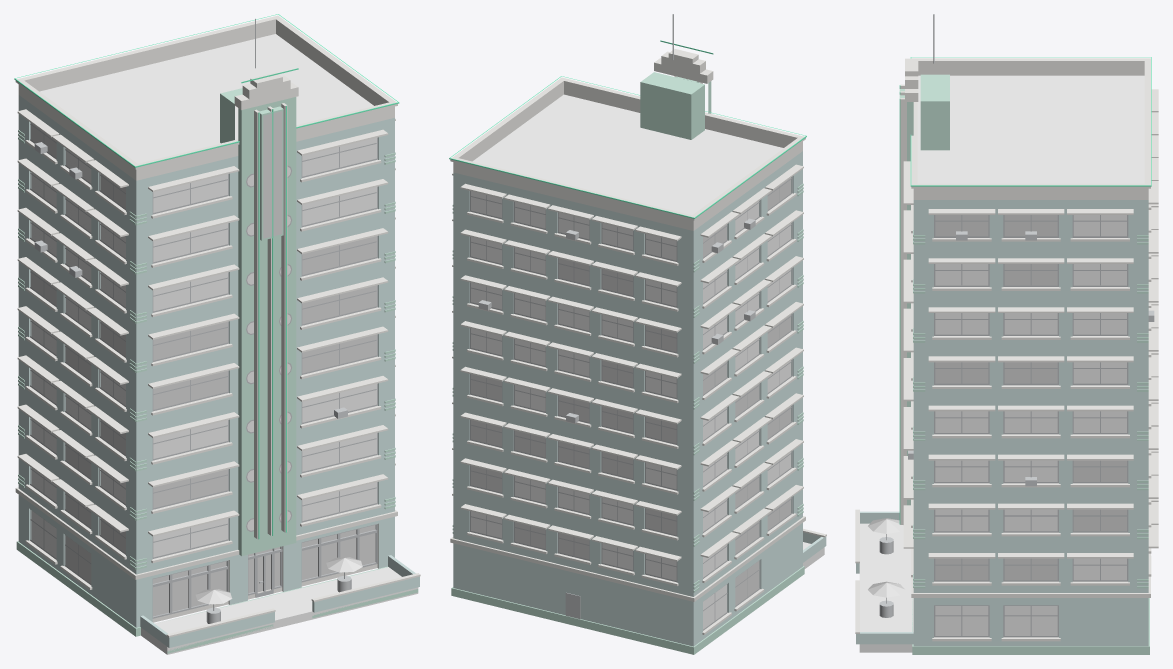
File: deco_w66f8.glb
3 views of the same model, side by side, from view 1: azimuth 30°, elevation 25°; view 2: azimuth 150°, elevation 25°; view 3: azimuth 270°, elevation 25° (orthographic). The views are drawn at different scales.
Parts seen in each view (by area): view 1: deco_w66f8_Walls, deco_w66f8_Trim, deco_w66f8_Glass, deco_w66f8_Accent, deco_w66f8_WindowsLit, deco_w66f8_Roof, deco_w66f8_Frames, deco_w66f8_Walls2, deco_w66f8_Neon, deco_w66f8_Brand, deco_w66f8_Details, deco_w66f8_Awning; view 2: deco_w66f8_Walls, deco_w66f8_Trim, deco_w66f8_Glass, deco_w66f8_Roof, deco_w66f8_WindowsLit, deco_w66f8_Frames, deco_w66f8_Accent, deco_w66f8_Details, deco_w66f8_Neon; view 3: deco_w66f8_Walls, deco_w66f8_Trim, deco_w66f8_Roof, deco_w66f8_Glass, deco_w66f8_WindowsLit, deco_w66f8_Frames, deco_w66f8_Accent, deco_w66f8_Walls2, deco_w66f8_Neon, deco_w66f8_Details, deco_w66f8_Awning.
Boxes of the visible parts, x1=… form: deco_w66f8_Walls: x1=18, y1=95, x2=419, y2=647; deco_w66f8_Trim: x1=15, y1=15, x2=420, y2=637; deco_w66f8_Glass: x1=31, y1=137, x2=376, y2=558; deco_w66f8_Accent: x1=16, y1=88, x2=418, y2=653; deco_w66f8_WindowsLit: x1=31, y1=123, x2=376, y2=616; deco_w66f8_Roof: x1=39, y1=34, x2=373, y2=163; deco_w66f8_Frames: x1=30, y1=122, x2=377, y2=618; deco_w66f8_Walls2: x1=141, y1=567, x2=418, y2=654; deco_w66f8_Neon: x1=14, y1=14, x2=399, y2=539; deco_w66f8_Brand: x1=263, y1=111, x2=282, y2=238; deco_w66f8_Details: x1=34, y1=18, x2=351, y2=623; deco_w66f8_Awning: x1=195, y1=557, x2=362, y2=604; deco_w66f8_Walls: x1=453, y1=151, x2=826, y2=646; deco_w66f8_Trim: x1=450, y1=49, x2=826, y2=634; deco_w66f8_Glass: x1=471, y1=191, x2=791, y2=629; deco_w66f8_Roof: x1=472, y1=94, x2=783, y2=214; deco_w66f8_WindowsLit: x1=471, y1=177, x2=791, y2=605; deco_w66f8_Frames: x1=470, y1=176, x2=792, y2=630; deco_w66f8_Accent: x1=451, y1=72, x2=804, y2=654; deco_w66f8_Details: x1=478, y1=14, x2=755, y2=619; deco_w66f8_Neon: x1=449, y1=40, x2=806, y2=218; deco_w66f8_Walls: x1=856, y1=200, x2=1148, y2=646; deco_w66f8_Trim: x1=855, y1=58, x2=1158, y2=641; deco_w66f8_Roof: x1=917, y1=75, x2=1144, y2=183; deco_w66f8_Glass: x1=935, y1=215, x2=1126, y2=635; deco_w66f8_WindowsLit: x1=935, y1=215, x2=1126, y2=580; deco_w66f8_Frames: x1=934, y1=215, x2=1128, y2=637; deco_w66f8_Accent: x1=899, y1=74, x2=1149, y2=654; deco_w66f8_Walls2: x1=859, y1=523, x2=913, y2=652; deco_w66f8_Neon: x1=899, y1=57, x2=1151, y2=524; deco_w66f8_Details: x1=879, y1=14, x2=1154, y2=617; deco_w66f8_Awning: x1=868, y1=518, x2=905, y2=597.
Bounding box in the file's own units: 70.4 × 141 × 67.1.
